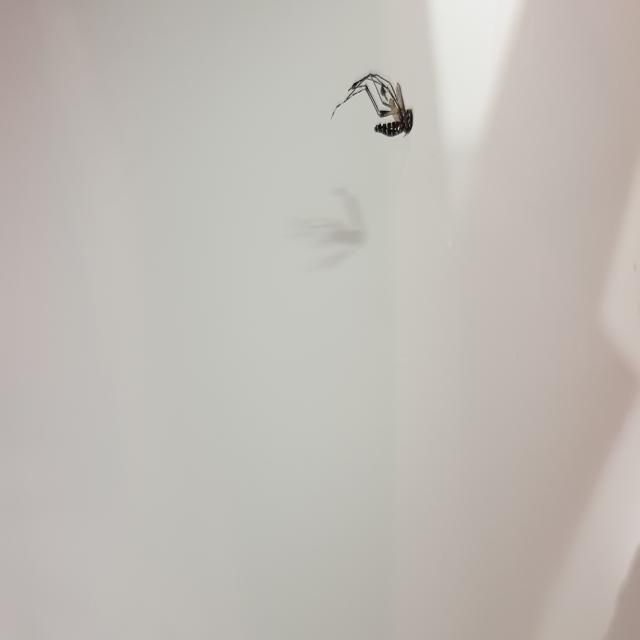albopictus: (327, 60, 420, 155)
